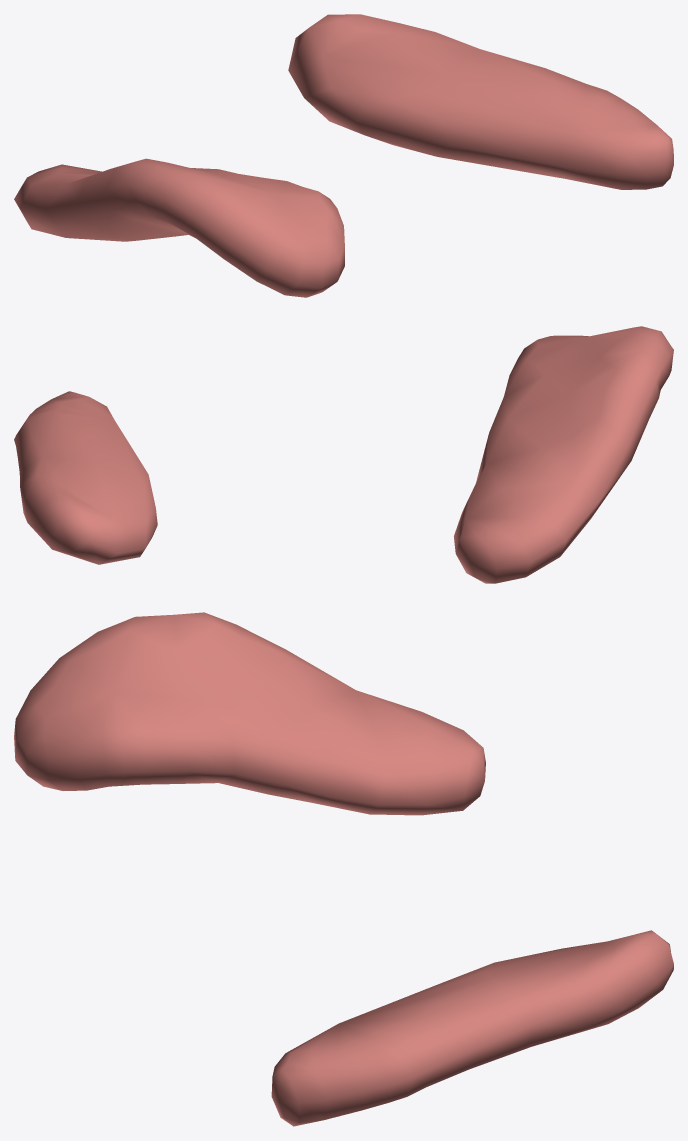
3 views of the same model, one above another, from view 1: azimuth 30°, elevation 25°; view 2: azimuth 150°, elevation 25°; view 3: azimuth 270°, elevation 25° (orthographic). The views are drawn at different scales.
Visible parts, largest first — view 1: ZA_5d9d331e5d5b542d; view 2: ZA_5d9d331e5d5b542d; view 3: ZA_5d9d331e5d5b542d.
Part boxes in pixels (bbox=[...]): ZA_5d9d331e5d5b542d: bbox=[14, 14, 673, 297]; ZA_5d9d331e5d5b542d: bbox=[14, 326, 673, 583]; ZA_5d9d331e5d5b542d: bbox=[14, 612, 673, 1126].
Bounding box in the file's own units: 0.0053 × 0.00163 × 0.00455.
